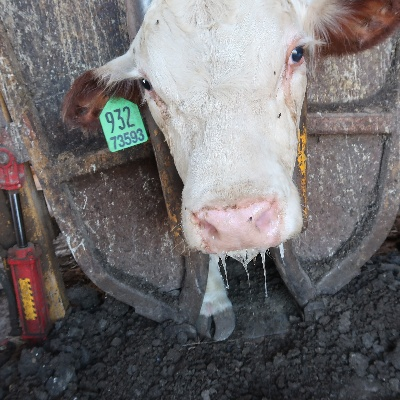fidget_spinner: (184, 196, 284, 251)
